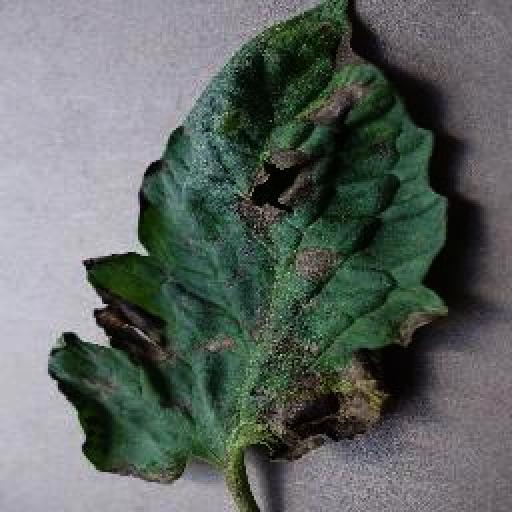disease_tomato: (46, 0, 450, 486)
